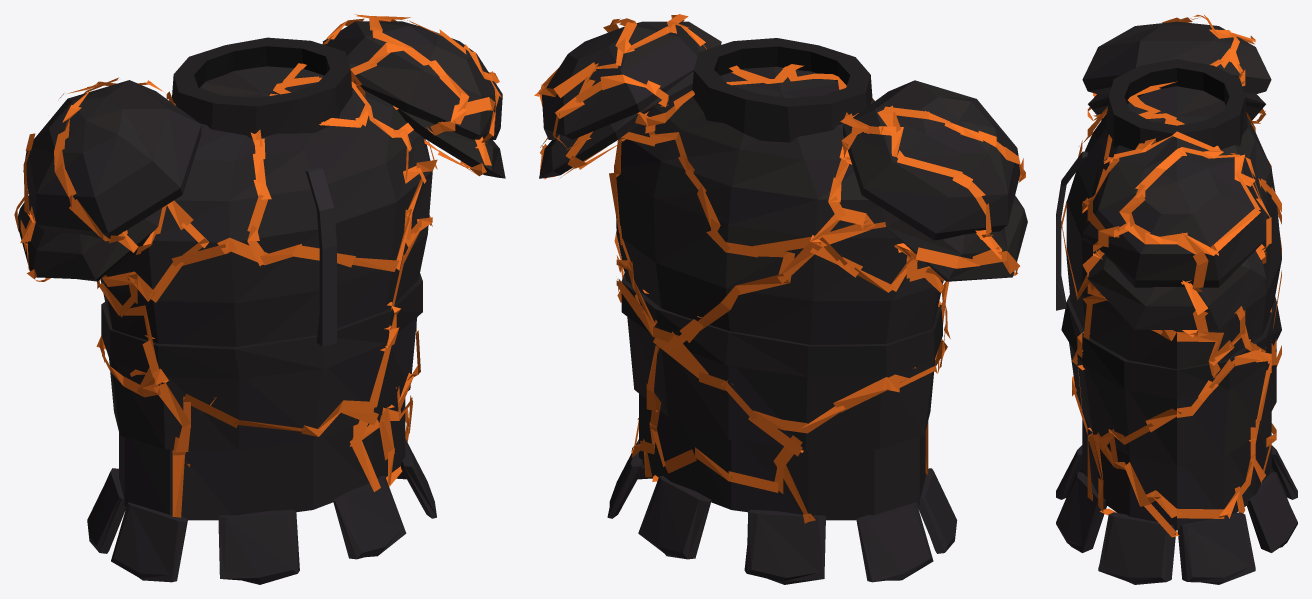
Rendered from B06_2_magma_platebody.obj.
The picture shows the model from 3 angles, left to right: view 1: azimuth 30°, elevation 25°; view 2: azimuth 150°, elevation 25°; view 3: azimuth 270°, elevation 25°; orthographic projection. The views are drawn at different scales.
Visible parts, largest first — view 1: B06_2_magma_platebody; view 2: B06_2_magma_platebody; view 3: B06_2_magma_platebody.
Part boxes in pixels (bbox=[...]): B06_2_magma_platebody: bbox=[14, 14, 505, 584]; B06_2_magma_platebody: bbox=[534, 14, 1027, 584]; B06_2_magma_platebody: bbox=[1056, 14, 1297, 584].
Bounding box in the file's own units: 95 × 92 × 46.
